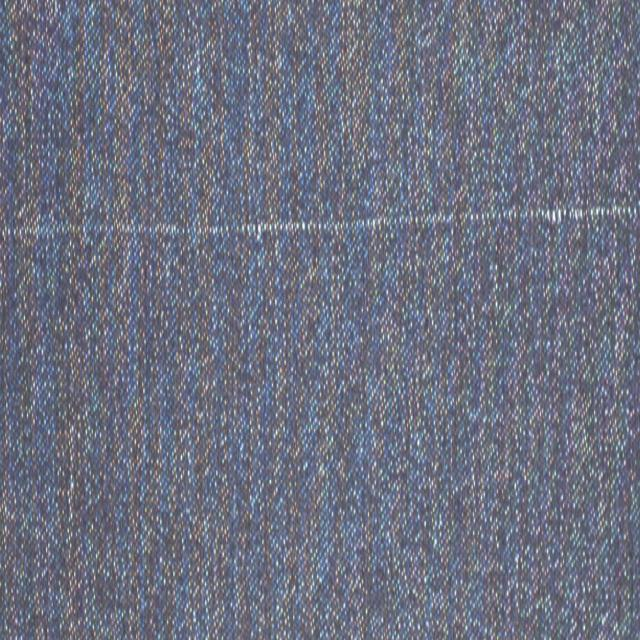Line: (2, 198, 640, 242)
